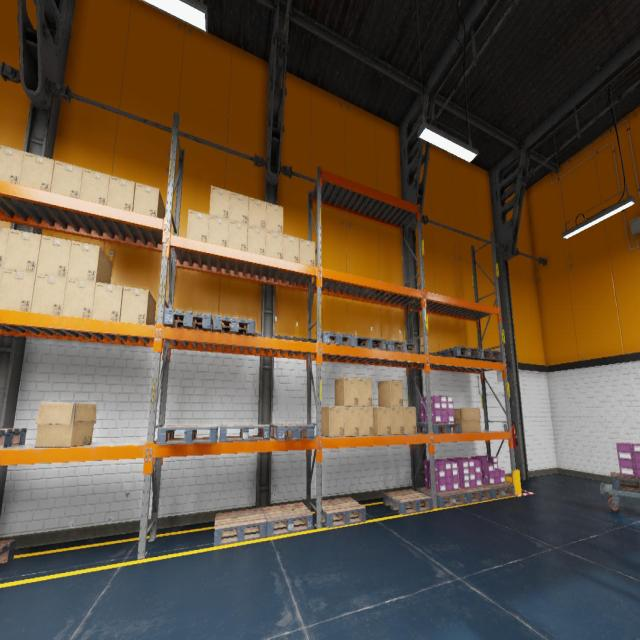box: (34, 402, 96, 447), (67, 241, 112, 283), (3, 229, 41, 273), (0, 268, 36, 312), (30, 273, 66, 315), (36, 235, 72, 277), (120, 286, 156, 325), (19, 152, 55, 191), (62, 278, 96, 318), (50, 160, 83, 198), (92, 282, 123, 321), (133, 182, 165, 218), (79, 168, 110, 204), (107, 175, 135, 211), (0, 144, 24, 183), (187, 209, 209, 242), (209, 186, 230, 220), (378, 379, 403, 407), (334, 377, 358, 406), (322, 406, 344, 437), (454, 408, 481, 432), (229, 192, 249, 224), (208, 215, 228, 247), (228, 220, 248, 250), (248, 197, 266, 229), (247, 225, 266, 255), (266, 202, 283, 234), (373, 406, 391, 435), (265, 230, 283, 259), (344, 407, 360, 436), (283, 234, 299, 263), (299, 238, 315, 266), (359, 406, 373, 436), (358, 378, 372, 407), (403, 407, 417, 434), (0, 227, 9, 268), (391, 407, 404, 435), (0, 268, 3, 286)
pallets: (213, 507, 267, 546), (262, 502, 312, 537), (315, 497, 366, 528), (383, 489, 432, 515), (157, 425, 218, 444), (163, 308, 213, 331), (419, 487, 467, 508), (219, 424, 270, 442), (213, 314, 255, 335), (270, 424, 314, 440), (312, 331, 354, 347), (610, 472, 640, 492), (436, 346, 481, 359), (458, 486, 492, 503), (482, 483, 515, 499), (462, 349, 502, 362), (0, 428, 27, 447), (416, 423, 460, 434), (354, 336, 386, 350), (386, 340, 418, 353), (0, 539, 16, 563)
